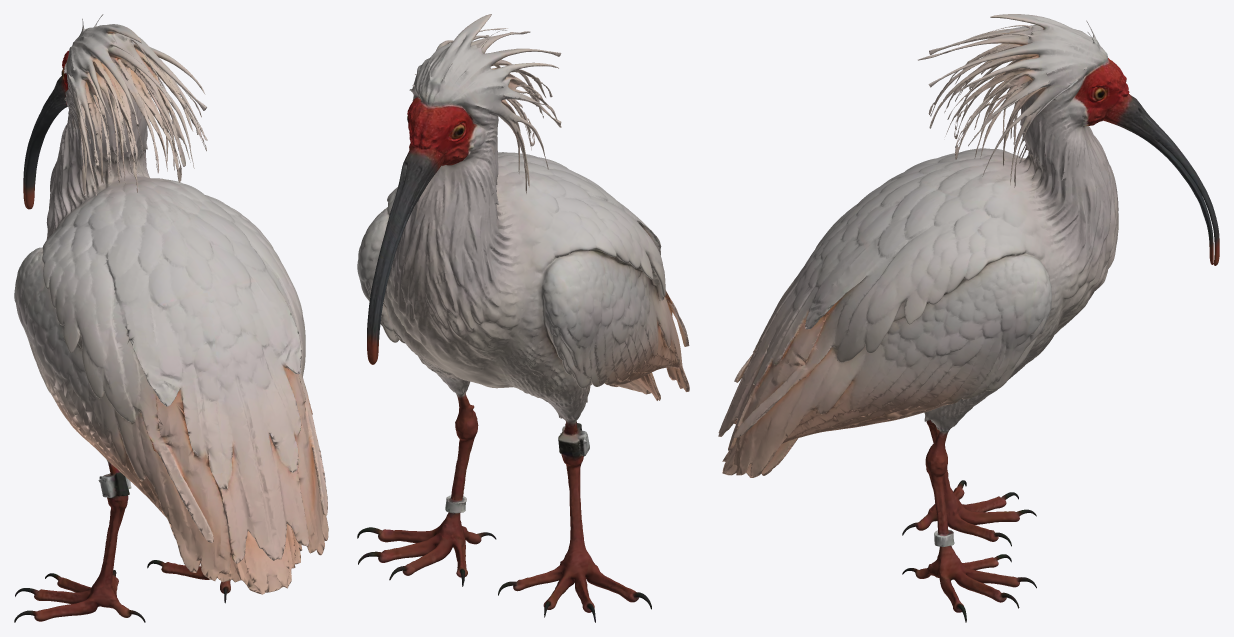
File: 754f460f-1fd0-4ff4-baba-fb8e6c8a40ce.glb
3 renders of one model, left to right at view 1: azimuth 30°, elevation 25°; view 2: azimuth 150°, elevation 25°; view 3: azimuth 270°, elevation 25°, orthographic. The views are drawn at different scales.
Parts seen in each view (by area): view 1: tripo_node_754f460f-1fd0-4ff4-baba-fb8e6c8a40ce; view 2: tripo_node_754f460f-1fd0-4ff4-baba-fb8e6c8a40ce; view 3: tripo_node_754f460f-1fd0-4ff4-baba-fb8e6c8a40ce.
Part boxes in pixels (<box>): tripo_node_754f460f-1fd0-4ff4-baba-fb8e6c8a40ce: <box>14,14,328,622</box>; tripo_node_754f460f-1fd0-4ff4-baba-fb8e6c8a40ce: <box>357,14,689,622</box>; tripo_node_754f460f-1fd0-4ff4-baba-fb8e6c8a40ce: <box>718,14,1219,622</box>.
Size of the model in its own units: 0.5334 by 0.989 by 0.8325.
Materials: 1 (1 with a texture image).
